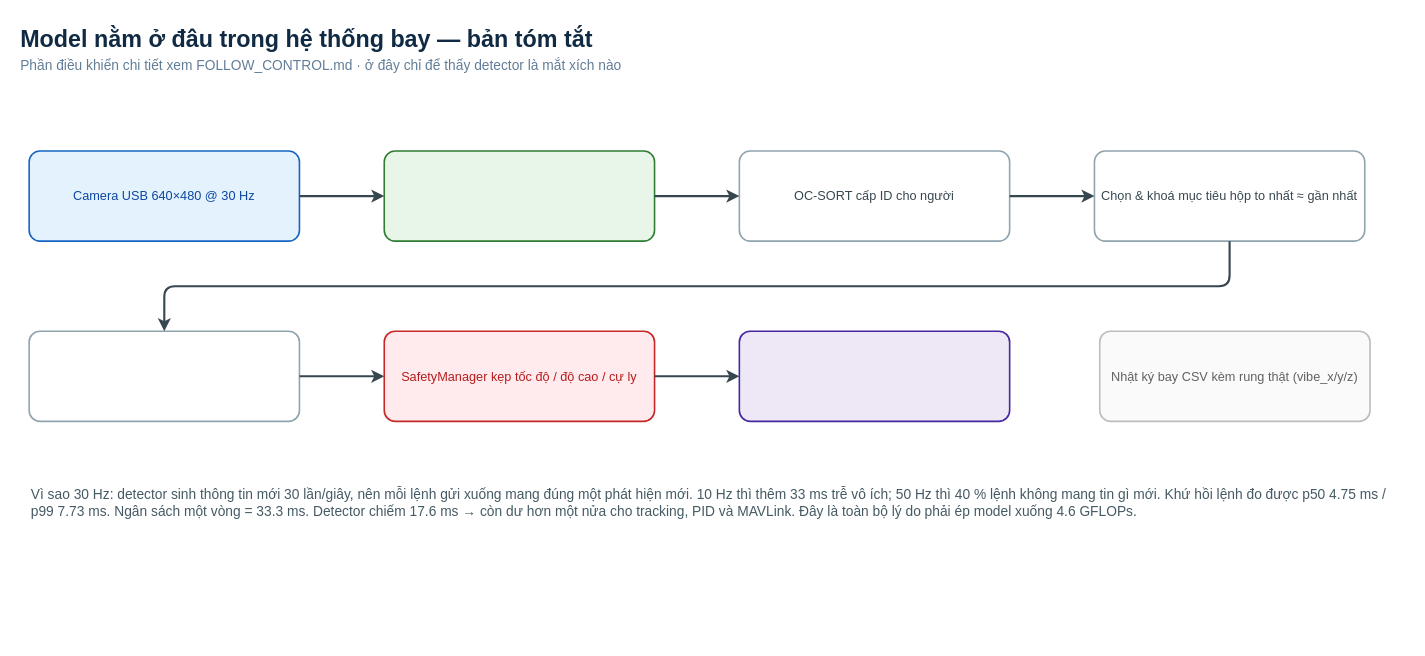
This 1425x656 diagram has some shape labels left out. The shapes that lost their labels are listed below. From the top down, each one's centre as x and y in pixels, then its label:
point (519, 195): SteadyDet-N trên Hailo-8L 17.6 ms
point (164, 376): PID → vx, vy, vz, yaw
point (874, 376): Pixhawk · ArduPilot chế độ GUIDED, 30 Hz
